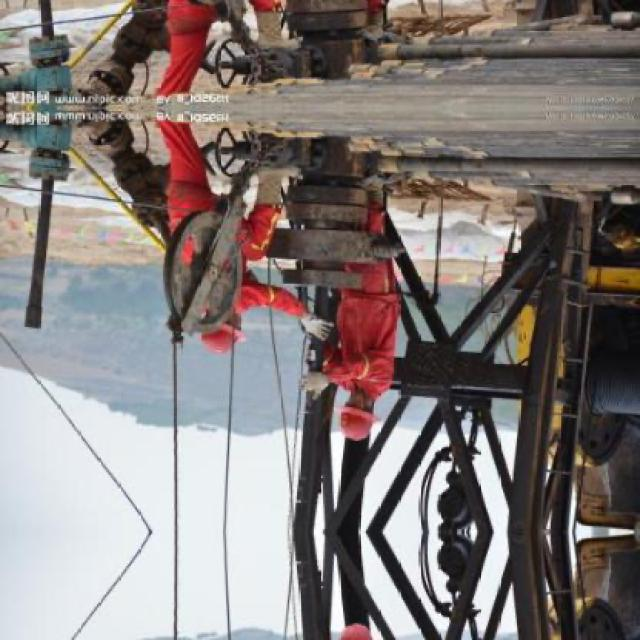con casco: (298, 381, 398, 441), (200, 306, 256, 352)
